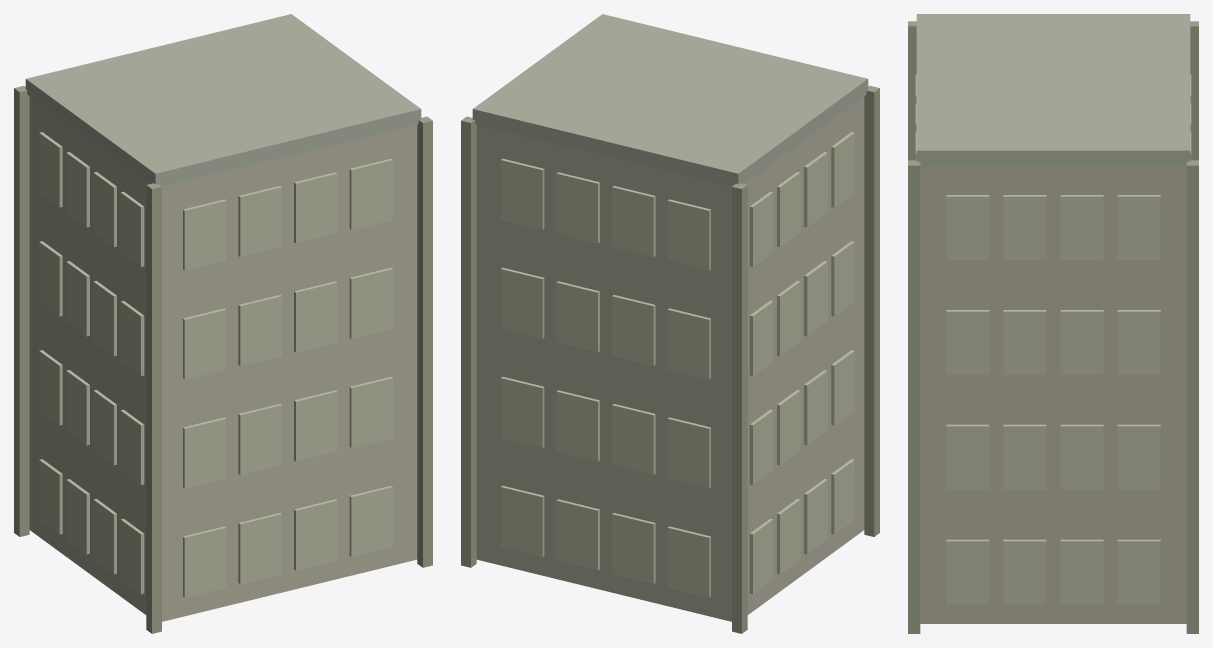
The model's file is tower_c.glb.
3 renders of one model, left to right at view 1: azimuth 30°, elevation 25°; view 2: azimuth 150°, elevation 25°; view 3: azimuth 270°, elevation 25°, orthographic. The views are drawn at different scales.
Bounding box in the file's own units: 7.01 × 10.86 × 5.97.
